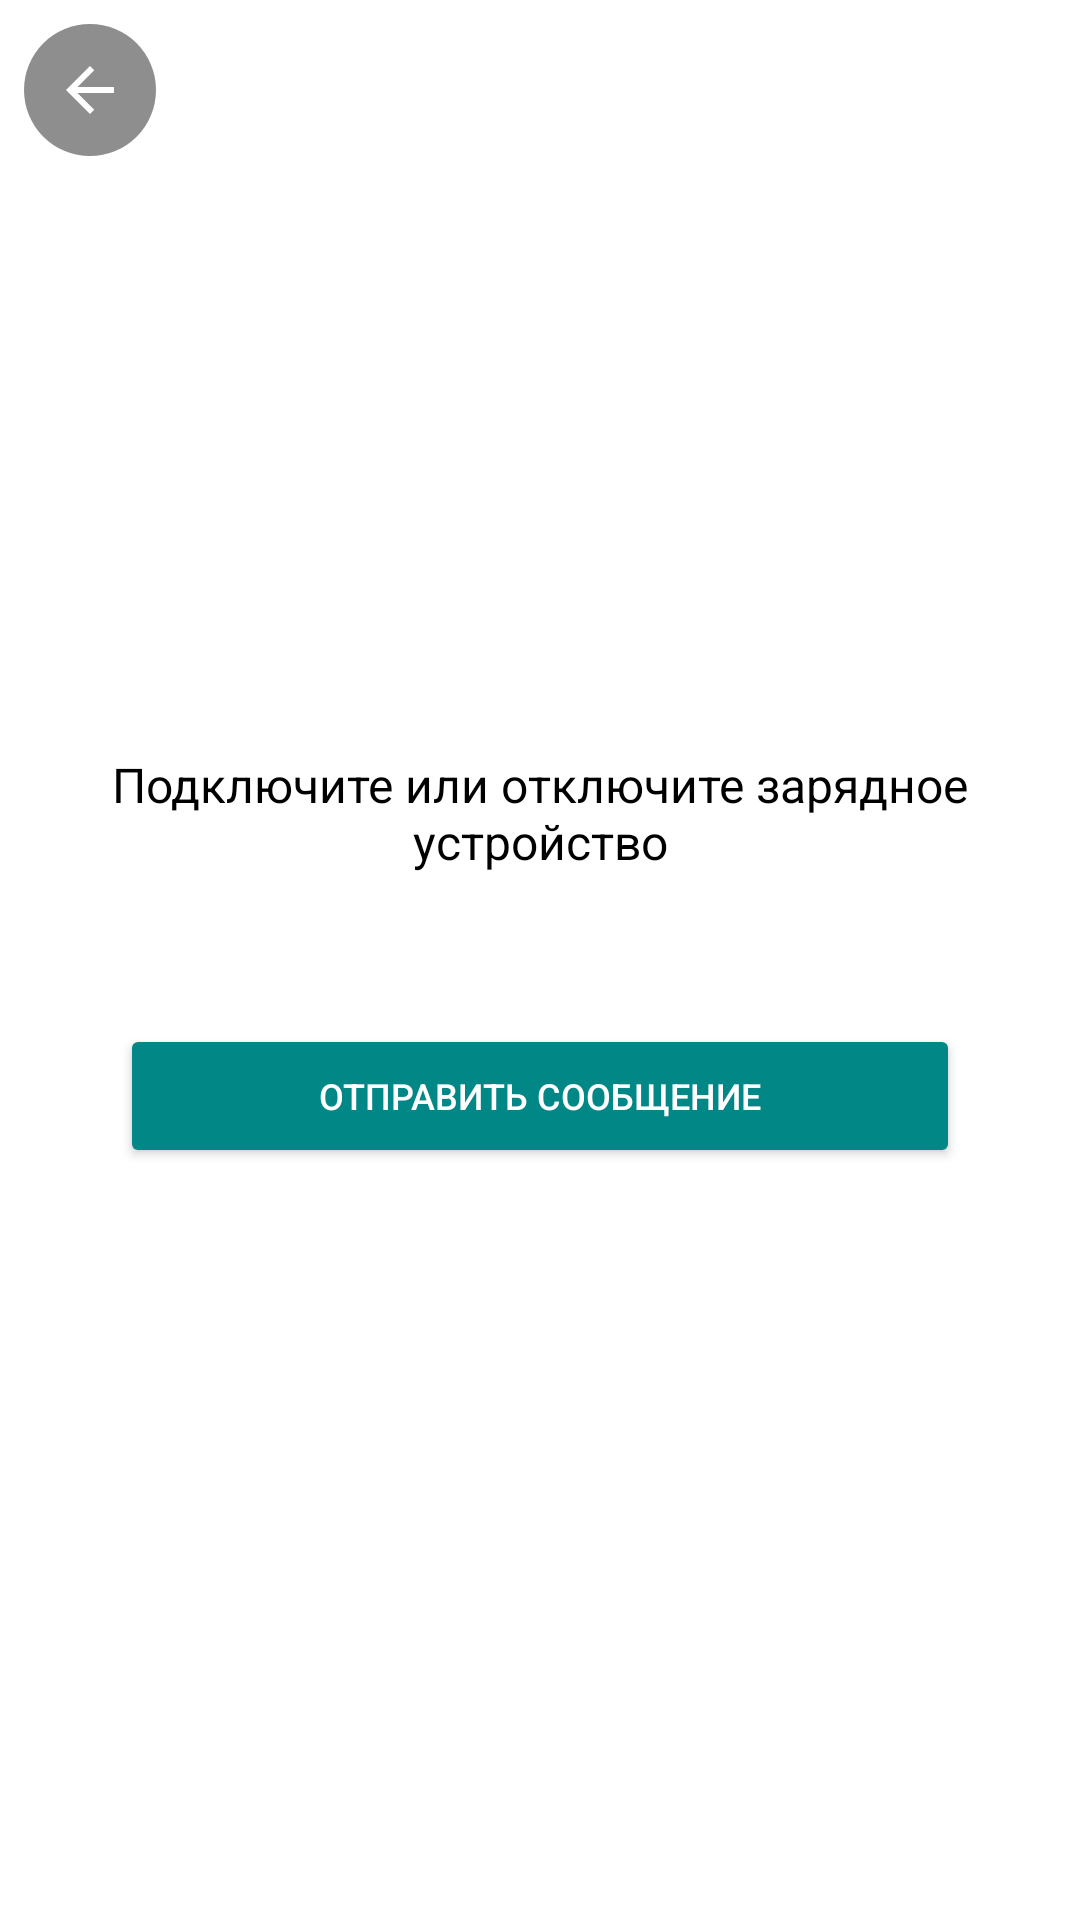

Screen size 1080x1920. Icon name, then its box in pixels as Rect(x1, y1, x2, y2):
arrow back: Rect(24, 24, 156, 156)
